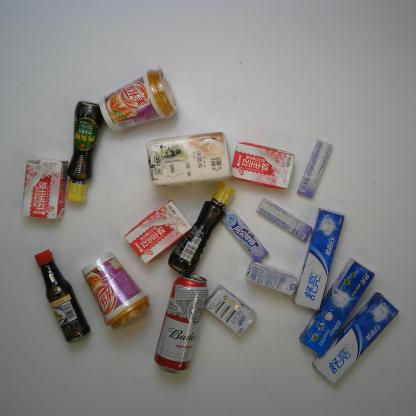Alcohol: (152, 270, 210, 378)
Candy: (218, 208, 270, 265), (254, 197, 314, 244), (295, 136, 335, 201)
Instant Drink: (80, 249, 152, 333), (97, 63, 181, 134)
Milk: (123, 198, 194, 266), (18, 151, 72, 222), (228, 140, 296, 192), (203, 283, 258, 339), (242, 258, 302, 298)
Personal Hygiene: (308, 290, 401, 388), (296, 255, 378, 359), (290, 204, 348, 314)
Seasoner: (166, 180, 237, 279), (32, 246, 92, 345), (64, 98, 108, 204)
Tissue: (144, 127, 235, 190)
